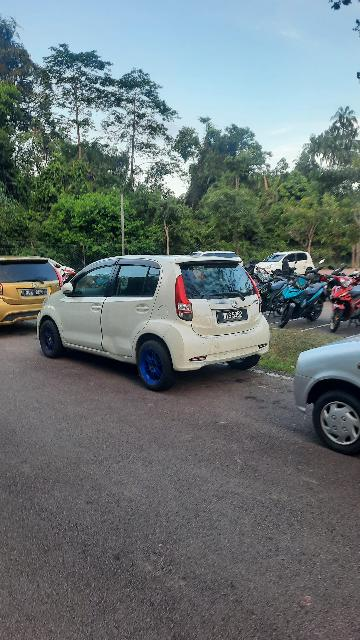License_Plate: (214, 309, 252, 325), (22, 288, 49, 299)
car: (39, 254, 278, 389), (1, 254, 65, 339)
